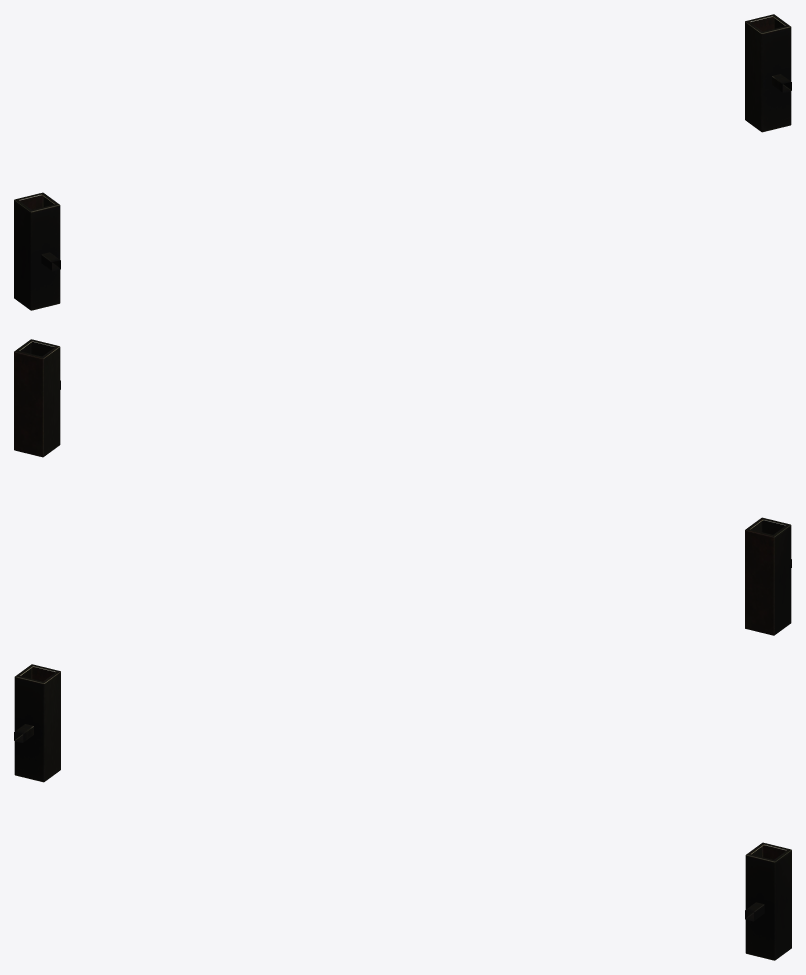
The model's file is lampa1.glb.
3 renders of one model, top to bottom at view 1: azimuth 30°, elevation 25°; view 2: azimuth 150°, elevation 25°; view 3: azimuth 330°, elevation 25°, orthographic.
Visible parts, largest first — view 1: Lamp_7; view 2: Lamp_7; view 3: Lamp_7.
Part boxes in pixels (left/top/right/bottom): Lamp_7: left=14, top=14, right=791, bottom=310; Lamp_7: left=14, top=339, right=791, bottom=635; Lamp_7: left=14, top=664, right=791, bottom=960.
Bounding box in the file's own units: 2.17 × 0.2704 × 0.1382.
1 material, 1 textured.
